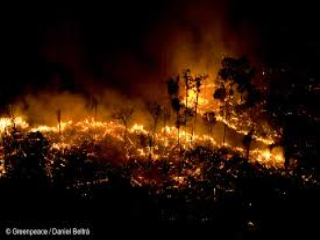fire: (7, 113, 285, 168), (174, 67, 241, 115)
